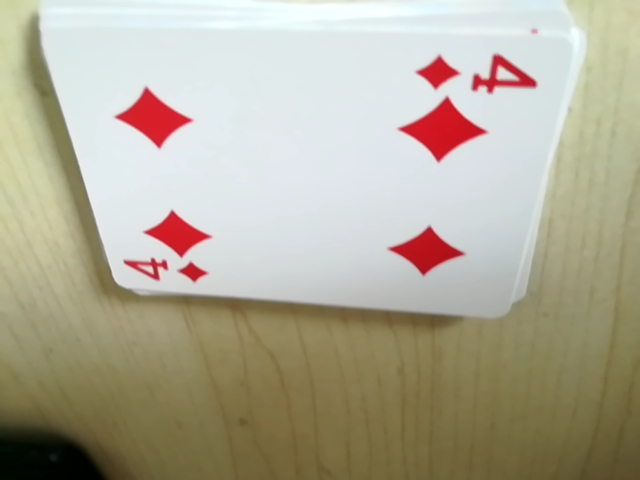fk 4: (409, 44, 546, 98), (115, 250, 214, 291)
